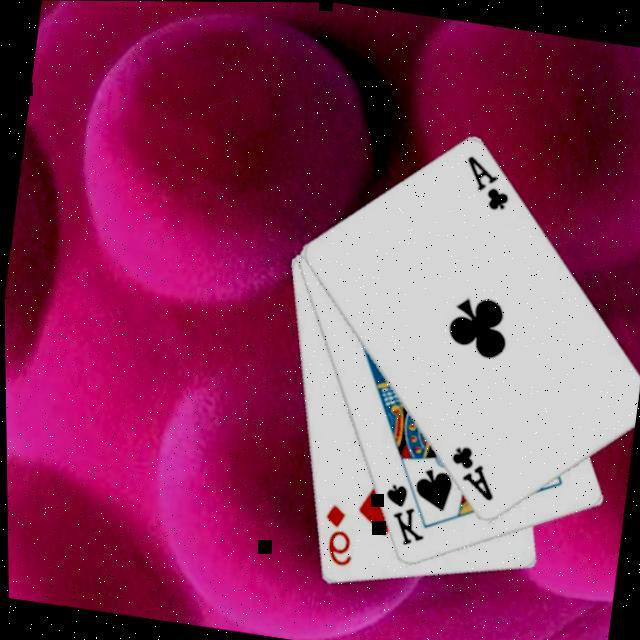6D: (312, 498, 360, 569)
AC: (455, 149, 517, 214), (441, 438, 502, 502)
KS: (372, 477, 432, 549)
